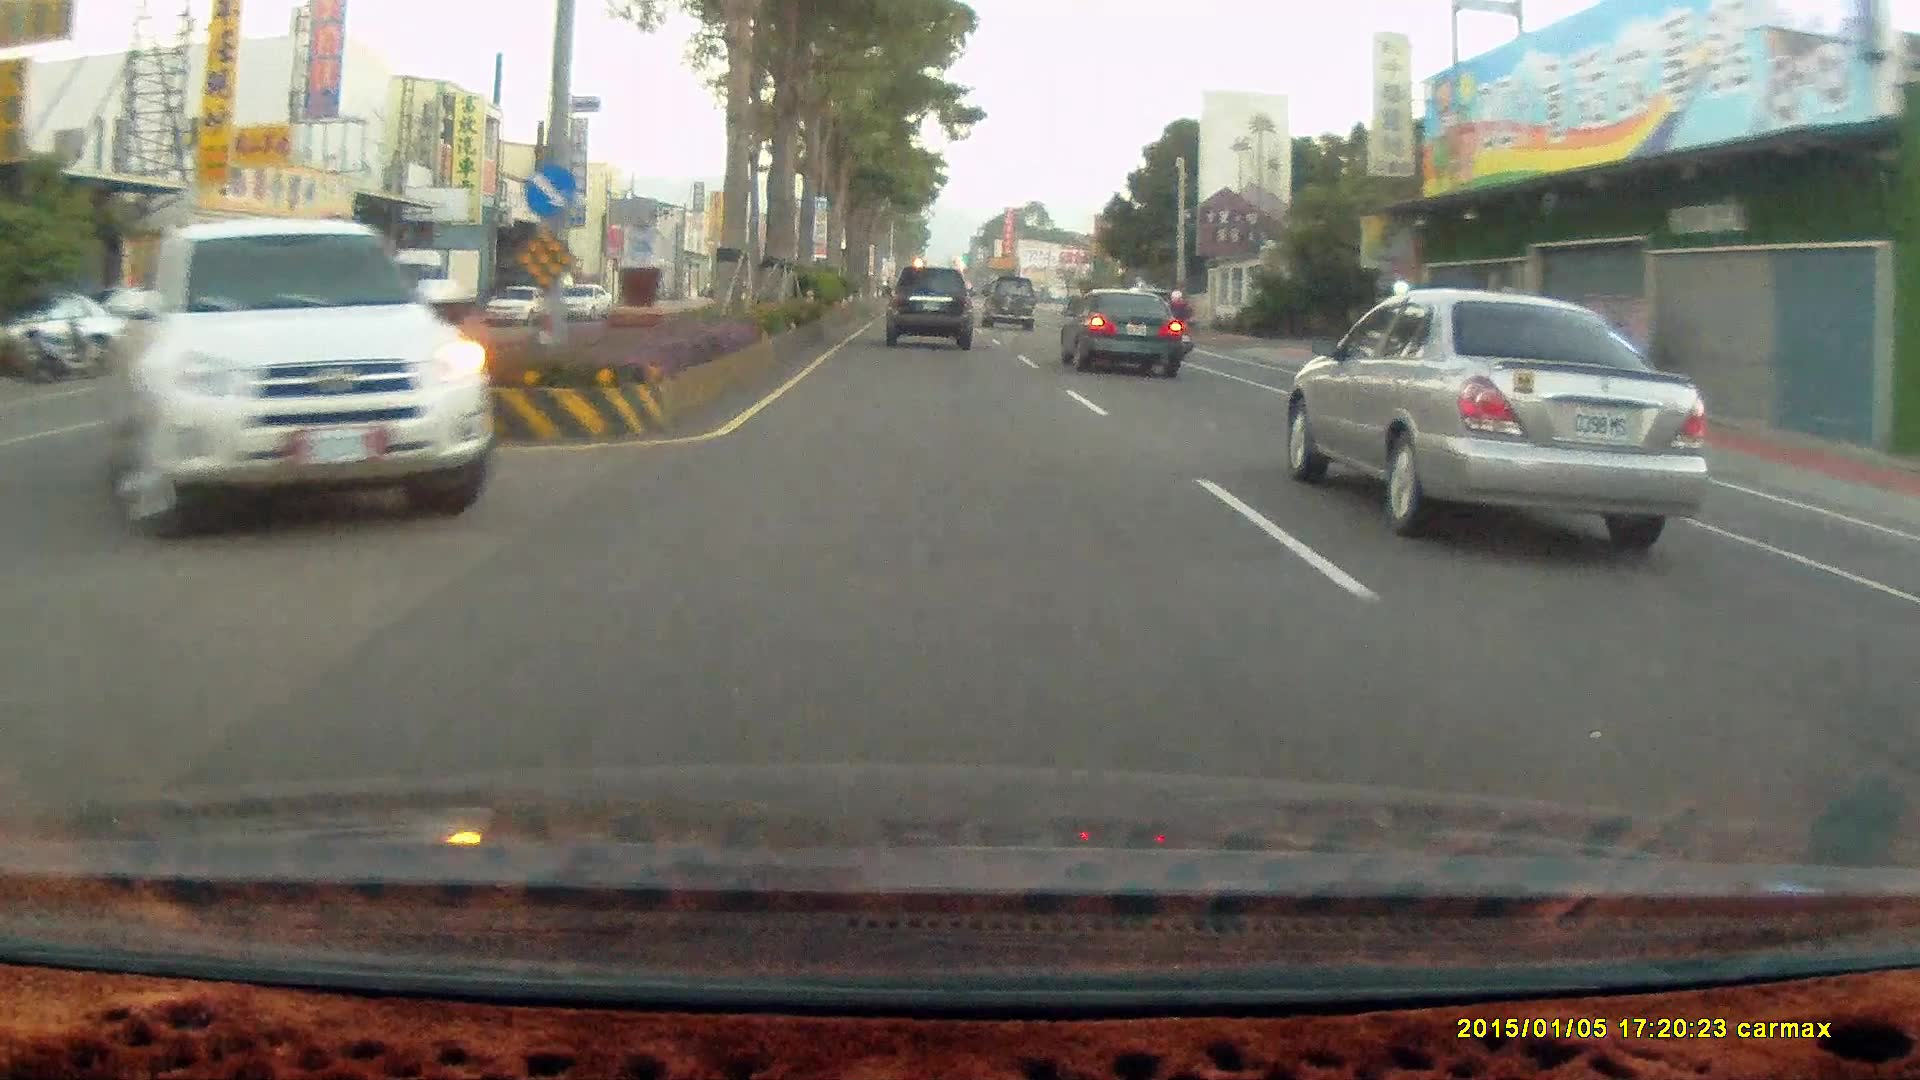rider: (1153, 285, 1195, 361)
vehicle: (105, 215, 493, 538), (106, 220, 490, 538), (1291, 289, 1709, 542), (1056, 286, 1182, 377), (1061, 293, 1193, 377), (100, 286, 224, 370), (881, 263, 979, 355), (882, 265, 974, 349), (387, 244, 482, 322), (981, 276, 1037, 332), (980, 276, 1036, 331), (486, 285, 548, 330), (485, 285, 547, 329)
